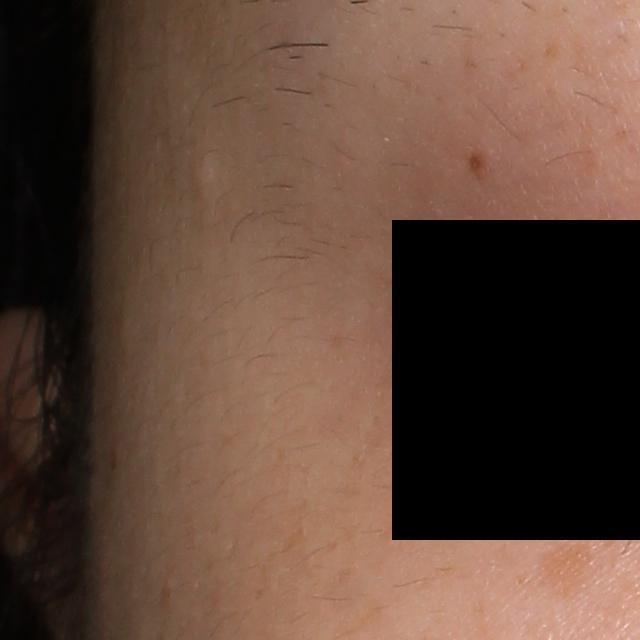comedo: (185, 142, 220, 199)
melasma: (527, 541, 597, 599)
nevus: (469, 152, 488, 174)
